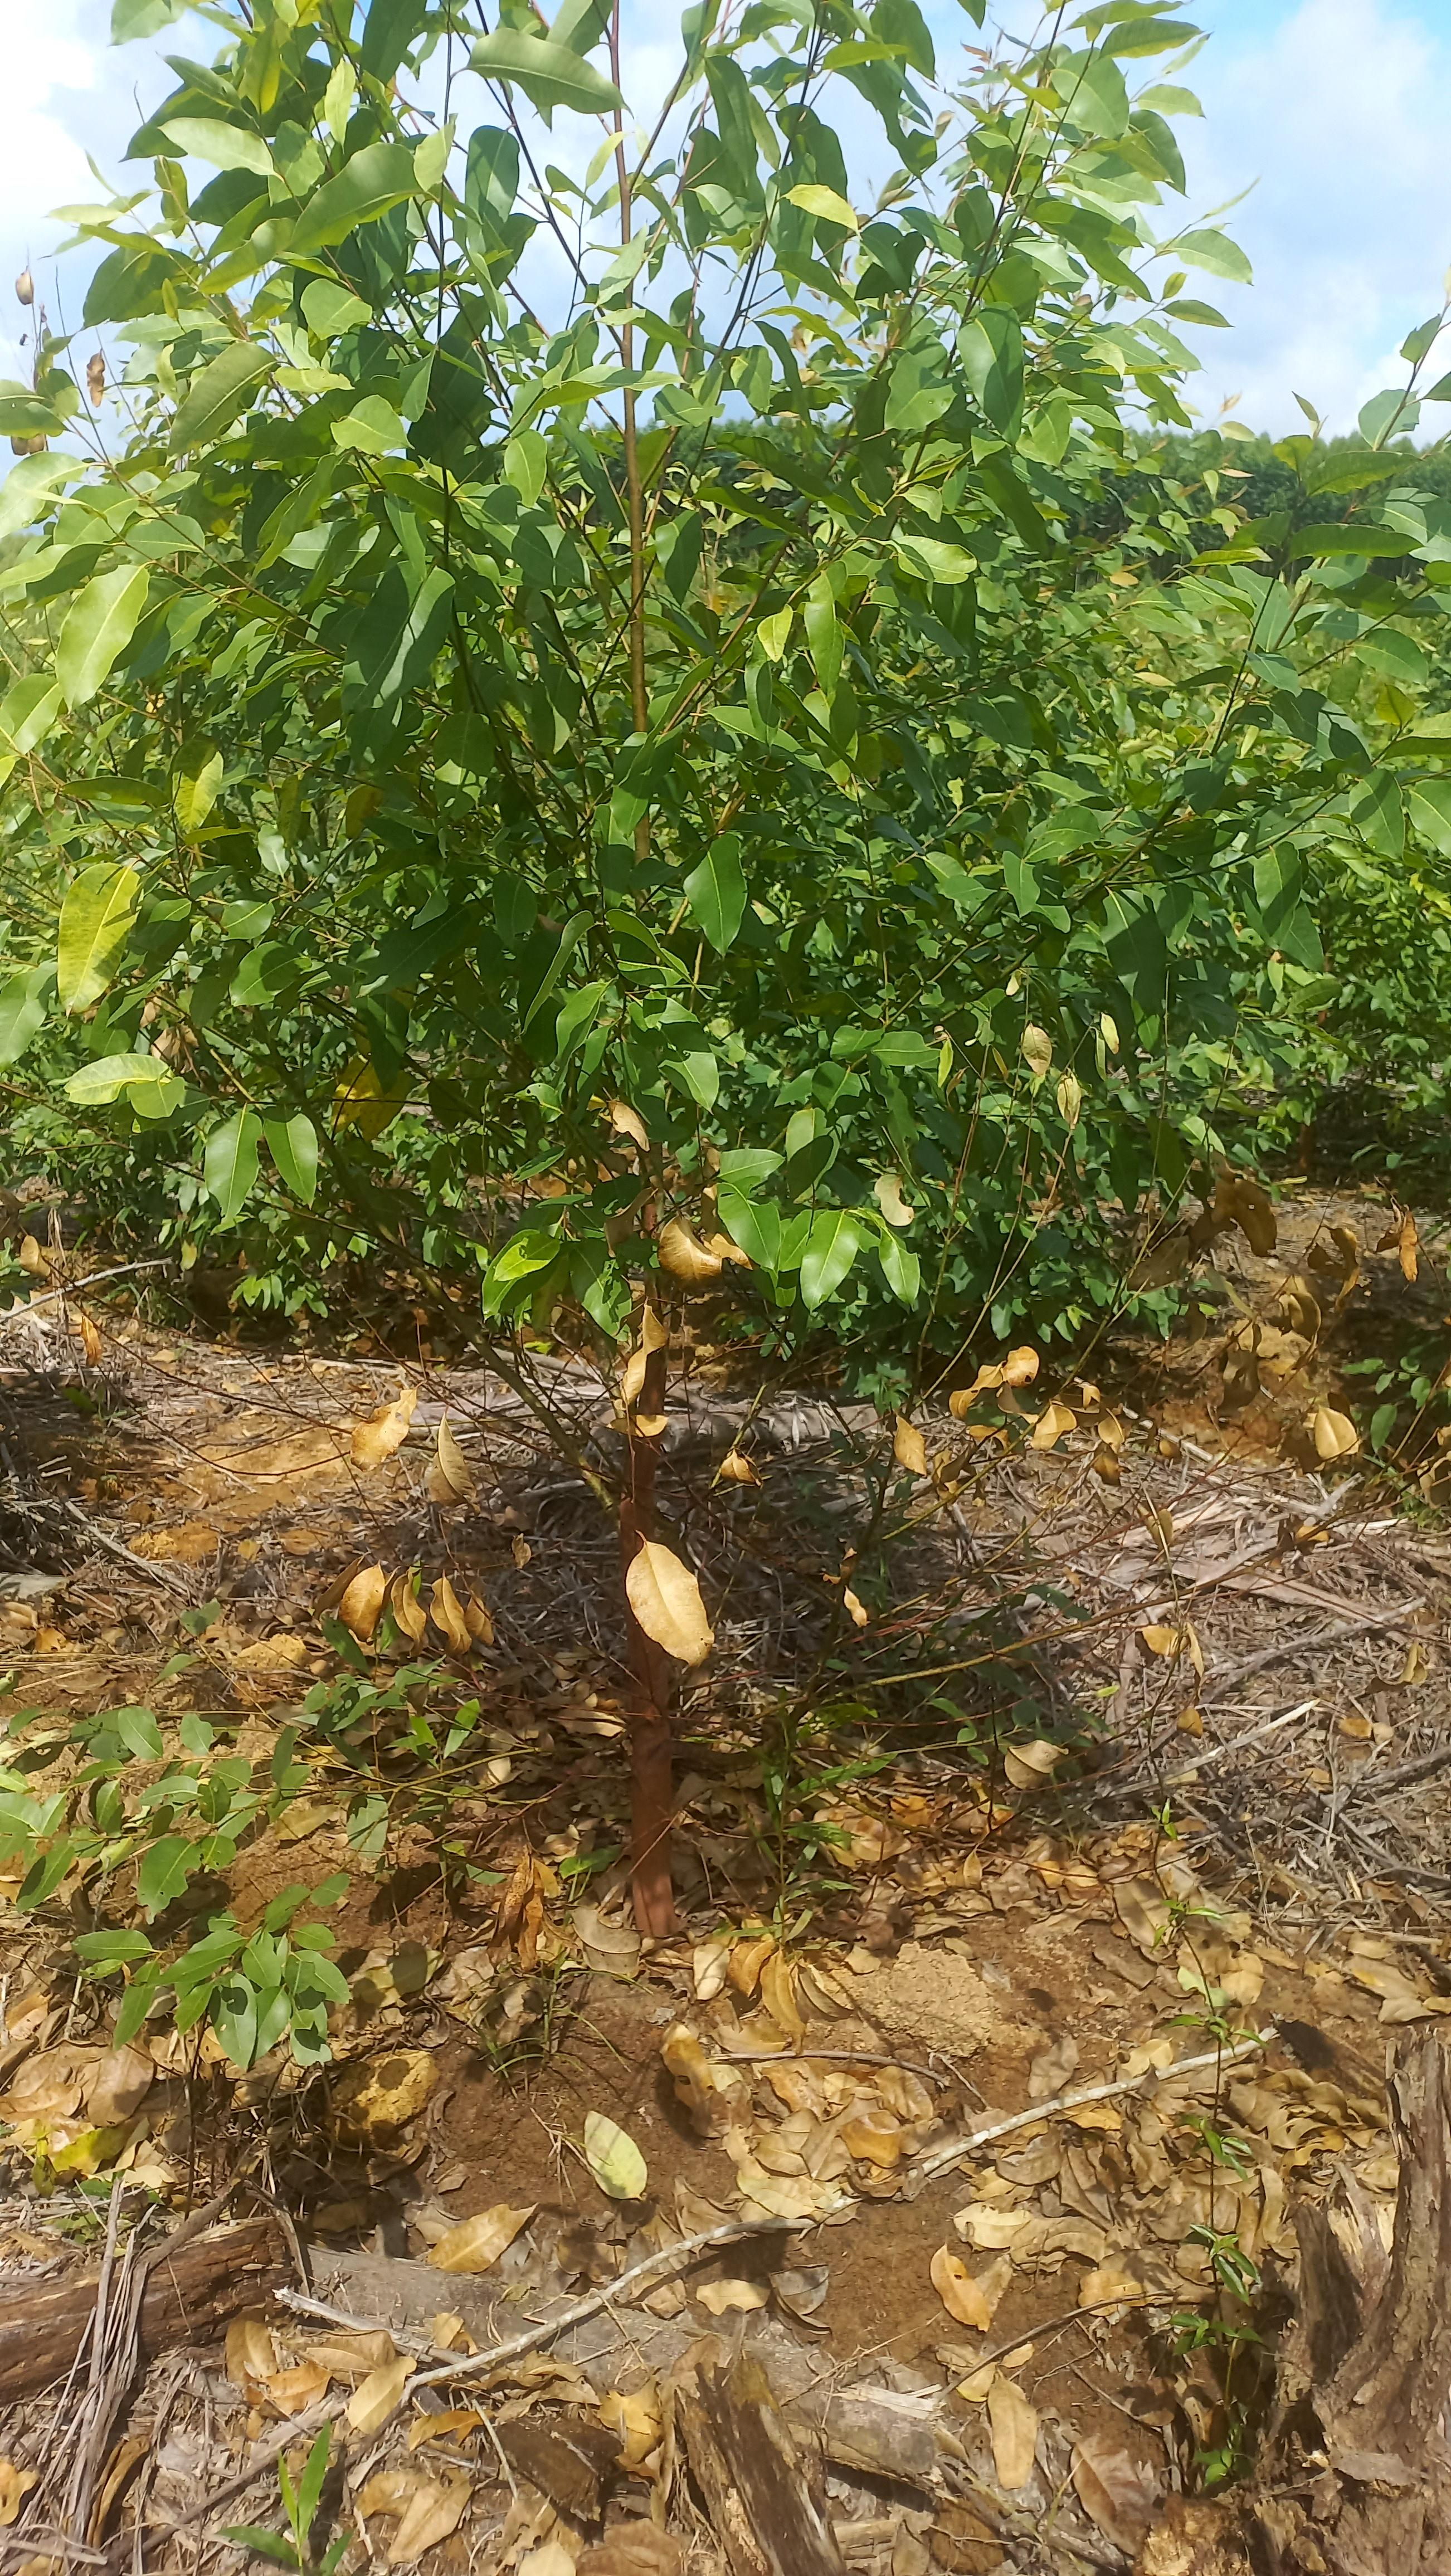Wither Tree Parts: (218, 1037, 1387, 1672), (50, 851, 147, 1000), (172, 724, 219, 839), (336, 777, 377, 847)
